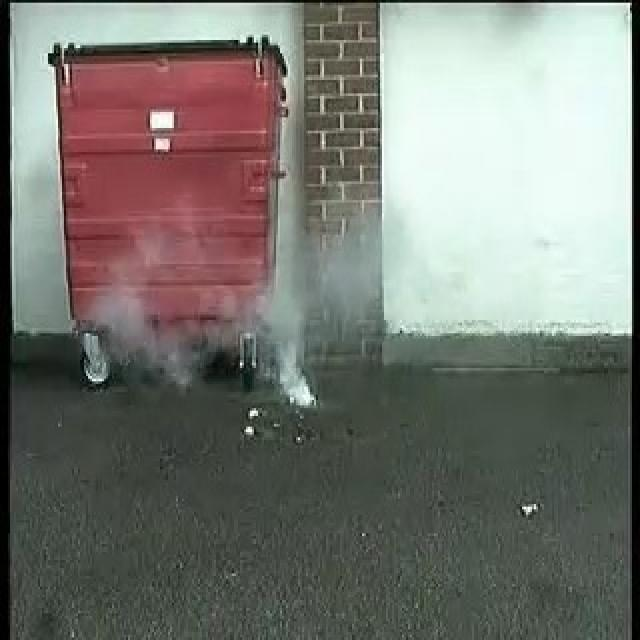smoke: (104, 228, 330, 413)
